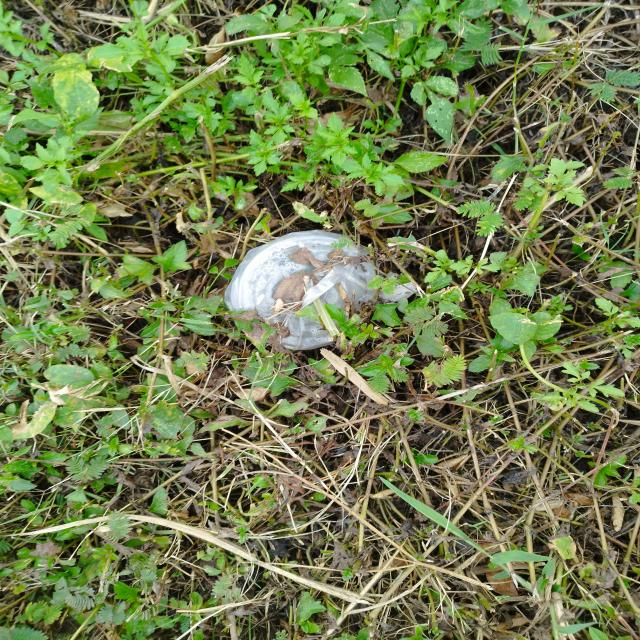drinking straw: (314, 297, 342, 337)
lid: (229, 231, 378, 349)
